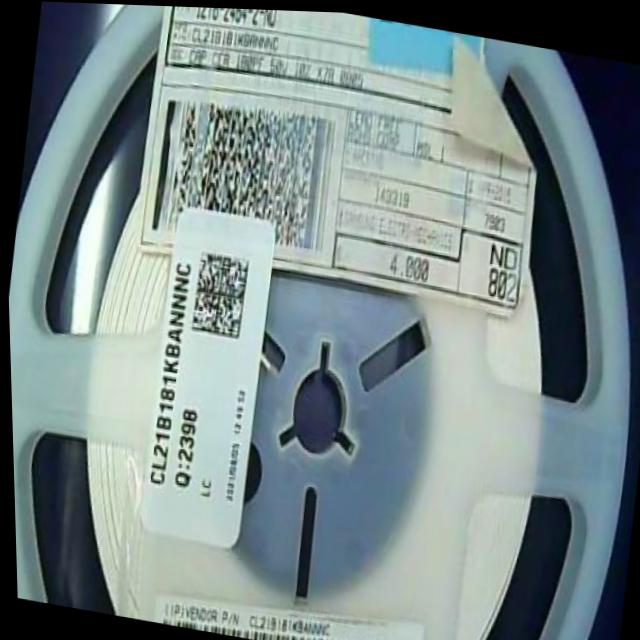datamatrix: (188, 247, 251, 341)
